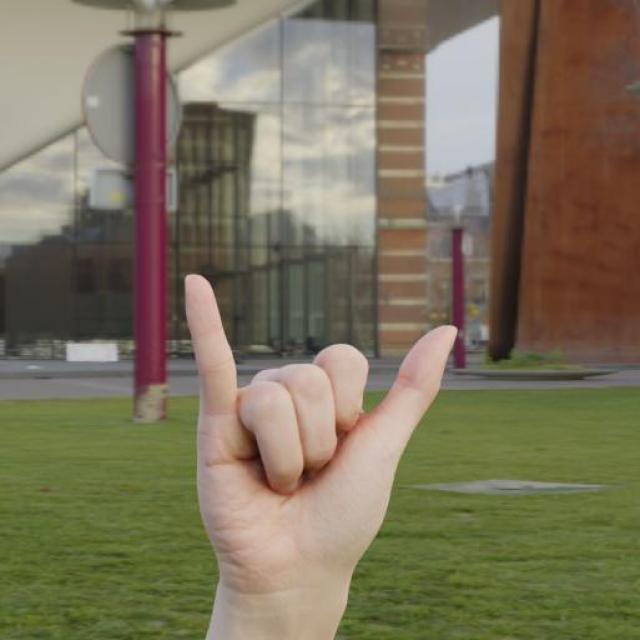Y: (182, 269, 462, 599)
